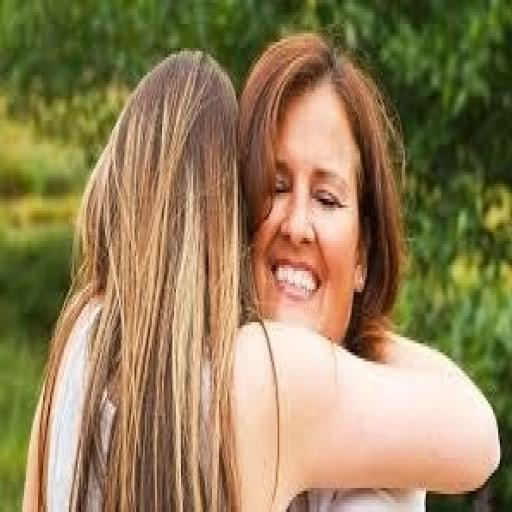hugging: (17, 30, 502, 509)
